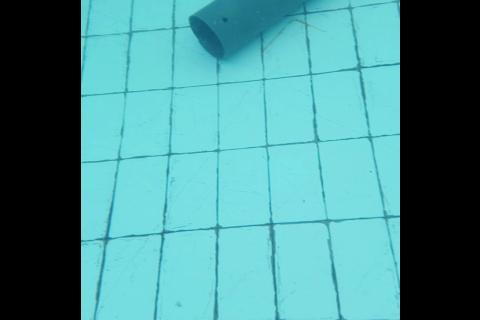kebocoran: (221, 17, 227, 23)
